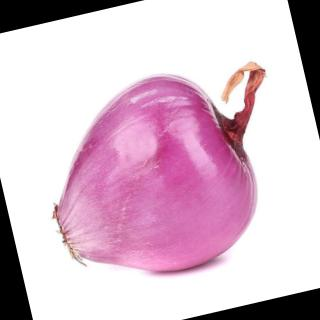Bawang Merah: (24, 46, 308, 301)
